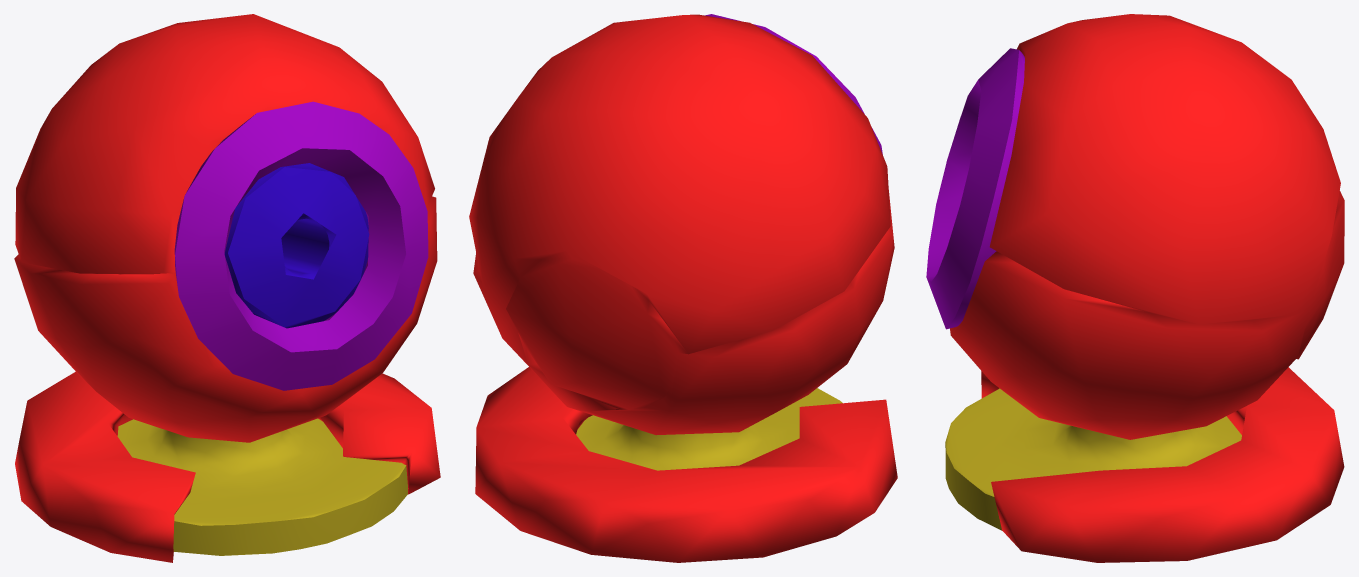
Rendered from materialball_low.fbx.
3 renders of one model, left to right at view 1: azimuth 30°, elevation 25°; view 2: azimuth 150°, elevation 25°; view 3: azimuth 270°, elevation 25°, orthographic.
Parts seen in each view (by area): view 1: temp_pCylinder70; view 2: temp_pCylinder70; view 3: temp_pCylinder70.
Boxes of the visible parts, x1=… form: temp_pCylinder70: x1=14, y1=14, x2=440, y2=562; temp_pCylinder70: x1=469, y1=14, x2=897, y2=562; temp_pCylinder70: x1=926, y1=14, x2=1344, y2=562.
Bounding box in the file's own units: 4.64 × 5.37 × 4.58.
